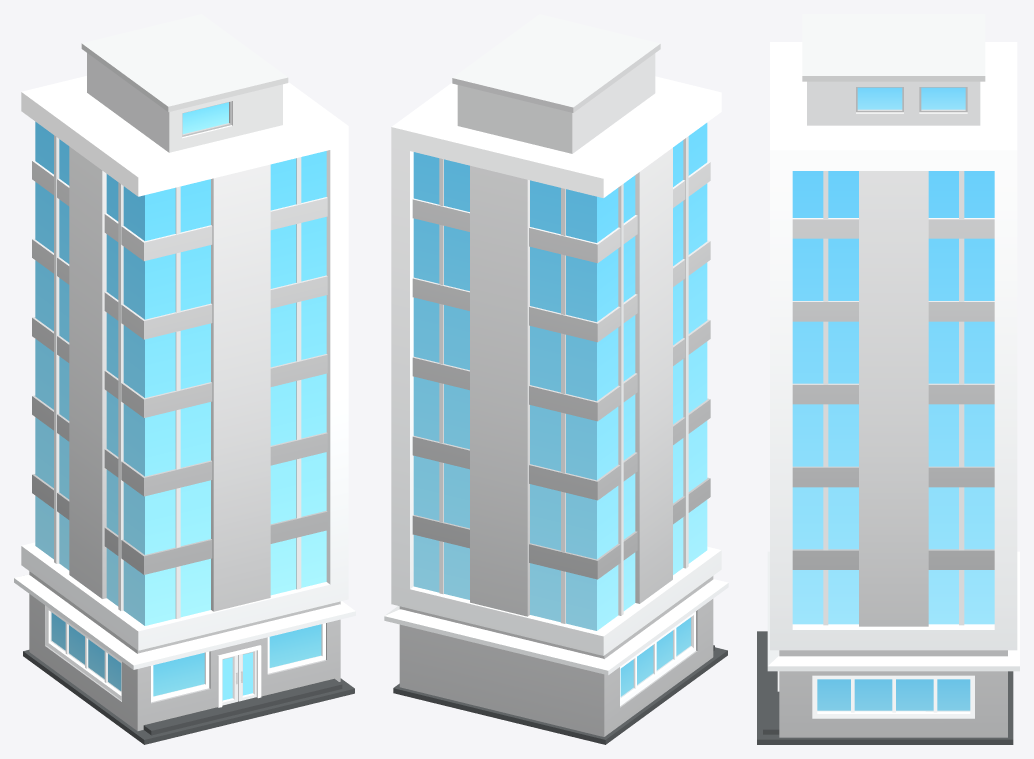
File: Building_Living_50.glb
3 views of the same model, side by side, from view 1: azimuth 30°, elevation 25°; view 2: azimuth 150°, elevation 25°; view 3: azimuth 270°, elevation 25° (orthographic). The views are drawn at different scales.
Parts seen in each view (by area): view 1: Building_Living_50; view 2: Building_Living_50; view 3: Building_Living_50.
Boxes of the visible parts, x1,y1,x2,y2 form: Building_Living_50: (14, 14, 355, 744); Building_Living_50: (384, 14, 728, 744); Building_Living_50: (757, 14, 1019, 744).
Size of the model in its own units: 10.41 by 27.36 by 10.09.
2 materials, 2 textured.
